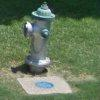a fire hydrant: (22, 3, 55, 68)
